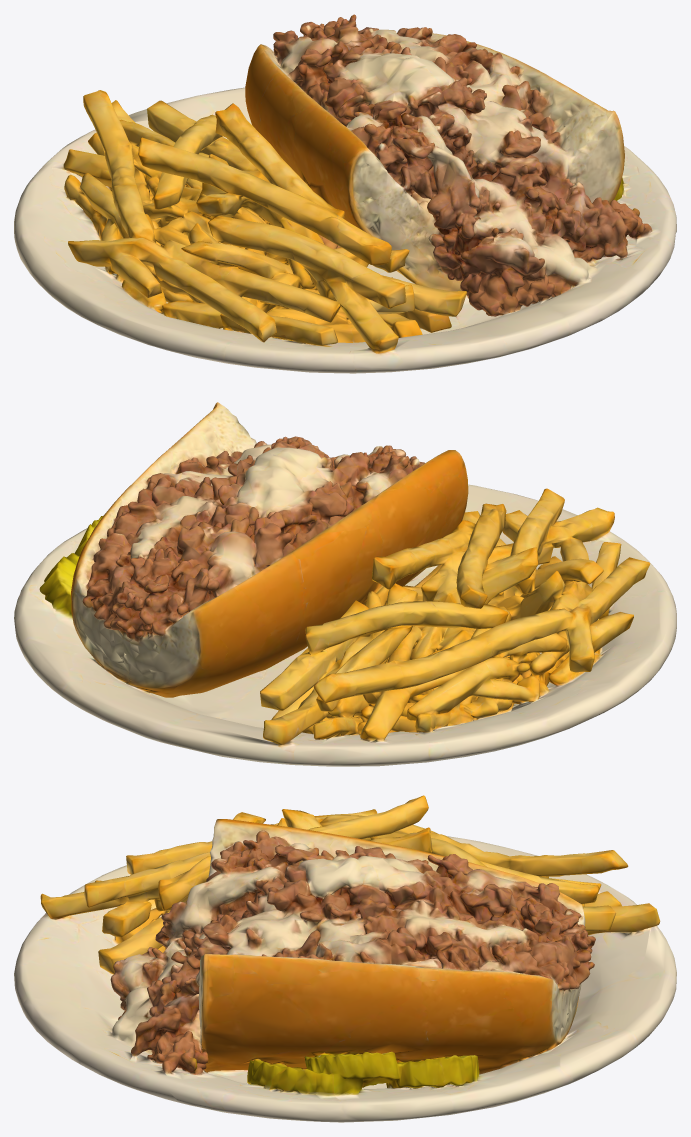
The model's file is cheesesteak-special-v3.glb.
The picture shows the model from 3 angles, top to bottom: view 1: azimuth 30°, elevation 25°; view 2: azimuth 150°, elevation 25°; view 3: azimuth 270°, elevation 25°; orthographic projection.
Visible parts, largest first — view 1: Mesh_0; view 2: Mesh_0; view 3: Mesh_0.
Boxes of the visible parts, x1,y1,x2,y2 form: Mesh_0: (14, 14, 676, 373); Mesh_0: (14, 402, 676, 766); Mesh_0: (14, 795, 676, 1122).
Bounding box in the file's own units: 0.3521 × 0.1197 × 0.3523.
1 material, 1 textured.
